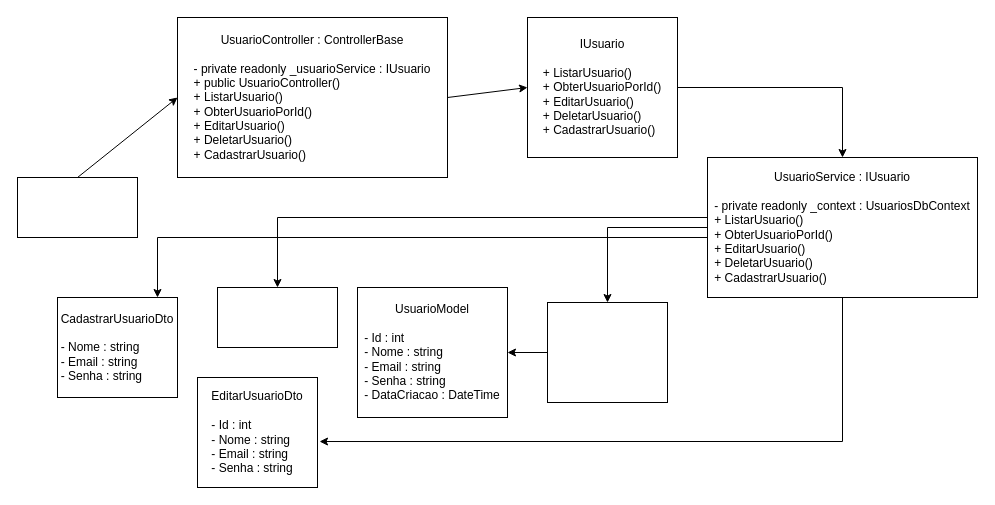
Image size: 995x505. Some labels were removed from this diagram. Each missing label, with the centre of its shape:
"Program.cs" belongs at (77,207).
"ResponseModel - Dados : T? - Mensagem : string - Status : bool" belongs at (607,352).
"UsuariosDbContext + public Usuarios()" belongs at (277,317).
